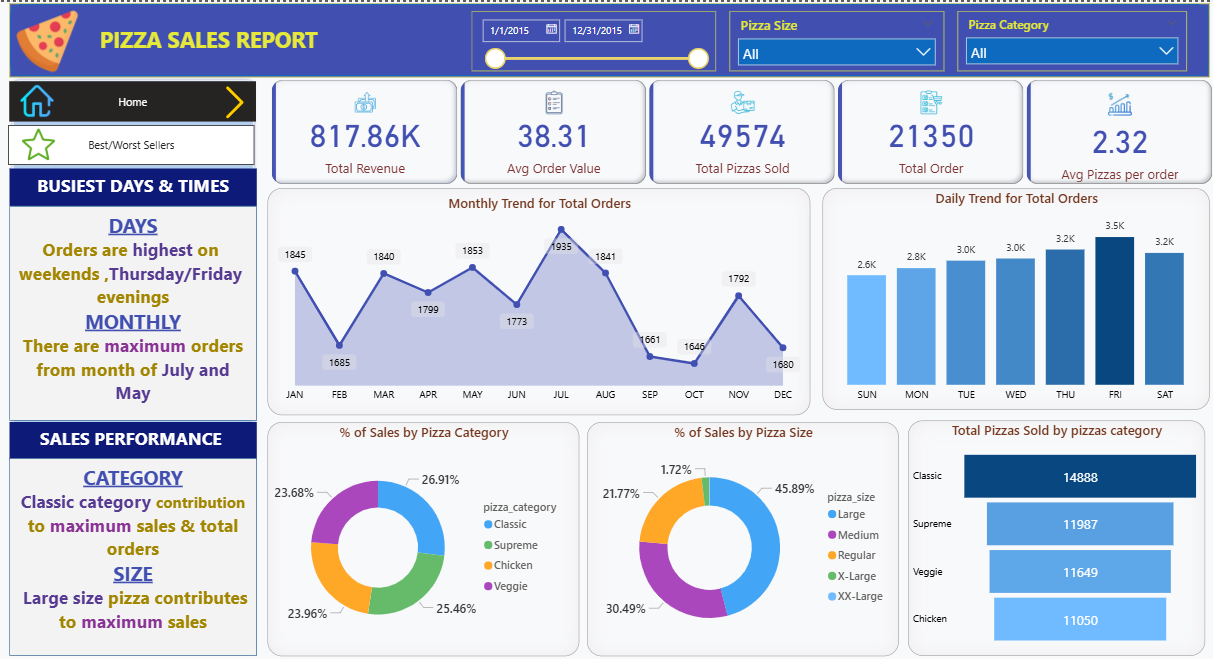

The dashboard page shown, as its layout file describes it:
{"tool":"powerbi","page":{"name":"Home","canvas":[1500,820],"ordinal":0},"visuals":[{"type":"cardVisual","fields":{"Data":["public pizza_sales.Total Revenu","public pizza_sales.Avg Order Value","public pizza_sales.Total Pizzas Sold","public pizza_sales.Total Order","public pizza_sales.Avg Pizzas per order"]},"box":[330.1,90.4,1169.2,138.3],"z":0},{"type":"shape","box":[12.9,1.8,1475.3,90.4],"z":1000},{"type":"textbox","box":[101.9,22.2,313,51.9],"z":2000},{"type":"image","box":[0,3.7,118.5,88.9],"z":3000},{"type":"slicer","fields":{"Values":["public pizza_sales.pizza_category"]},"box":[1178.4,11.1,282.2,73.8],"z":4000},{"type":"slicer","fields":{"Values":["public pizza_sales.pizza_size"]},"box":[898.1,11.1,263.7,73.8],"z":5000},{"type":"columnChart","title":"Daily Trend for Total Orders","fields":{"Category":["public pizza_sales.ORDER DAYS"],"Y":["public pizza_sales.Total Order"]},"box":[1012.4,228.7,475.8,272.9],"z":6000},{"type":"areaChart","title":"Monthly Trend for Total Orders","fields":{"Category":["public pizza_sales.OrderMonth"],"Y":["public pizza_sales.Total Order"]},"box":[330.1,228.7,667.6,279],"z":7000},{"type":"donutChart","title":"% of Sales by Pizza Category","fields":{"Category":["public pizza_sales.pizza_category"],"Y":["public pizza_sales.Total Revenu"]},"box":[330.1,516.4,383.6,287.7],"z":8000},{"type":"shape","box":[12.9,92.2,304.3,711.8],"z":9000},{"type":"donutChart","title":"% of Sales by Pizza Size","fields":{"Category":["public pizza_sales.pizza_size"],"Y":["public pizza_sales.Total Revenu"]},"box":[722.9,516.4,383.6,287.7],"z":10000},{"type":"funnel","title":"Total Pizzas Sold by pizzas category","fields":{"Category":["public pizza_sales.pizza_category"],"Y":["public pizza_sales.Total Pizzas Sold"]},"box":[1117.5,514.5,365.1,289.5],"z":11000},{"type":"textbox","box":[12.9,204.7,304.3,46.1],"z":12000},{"type":"textbox","box":[12.9,250.8,304.3,263.7],"z":13000},{"type":"textbox","box":[12.9,516.4,304.3,46.1],"z":14000},{"type":"textbox","box":[12.9,560.6,304.3,243.4],"z":15000},{"type":"slicer","fields":{"Values":["public pizza_sales.order_date"]},"box":[580.9,11.1,300.6,73.8],"z":16000},{"type":"pageNavigator","box":[13.2,98.1,303.8,49.1],"z":17000},{"type":"pageNavigator","box":[11.3,150.9,303.8,49.1],"z":18000},{"type":"image","box":[186.8,98.1,207.5,50.9],"z":19000},{"type":"image","box":[11.3,96.2,71.7,50.9],"z":20000},{"type":"image","box":[13.2,149.1,71.7,50.9],"z":21000}]}

Visuals, with their boxes in screenshot pixels (x1, y1, x2, y2), scaled from the page's 1500x820 canvas onto the 1213x659 screenshot:
cardVisual - public pizza_sales.Total Revenu x public pizza_sales.Avg Order Value: pyautogui.locateOnScreen(267, 73, 1212, 184)
shape: pyautogui.locateOnScreen(10, 1, 1203, 74)
textbox: pyautogui.locateOnScreen(82, 18, 336, 60)
image: pyautogui.locateOnScreen(0, 3, 96, 74)
slicer - public pizza_sales.pizza_category: pyautogui.locateOnScreen(953, 9, 1181, 68)
slicer - public pizza_sales.pizza_size: pyautogui.locateOnScreen(726, 9, 940, 68)
"Daily Trend for Total Orders" columnChart: pyautogui.locateOnScreen(819, 184, 1203, 403)
"Monthly Trend for Total Orders" areaChart: pyautogui.locateOnScreen(267, 184, 807, 408)
"% of Sales by Pizza Category" donutChart: pyautogui.locateOnScreen(267, 415, 577, 646)
shape: pyautogui.locateOnScreen(10, 74, 257, 646)
"% of Sales by Pizza Size" donutChart: pyautogui.locateOnScreen(585, 415, 895, 646)
"Total Pizzas Sold by pizzas category" funnel: pyautogui.locateOnScreen(904, 413, 1199, 646)
textbox: pyautogui.locateOnScreen(10, 165, 257, 202)
textbox: pyautogui.locateOnScreen(10, 202, 257, 413)
textbox: pyautogui.locateOnScreen(10, 415, 257, 452)
textbox: pyautogui.locateOnScreen(10, 451, 257, 646)
slicer - public pizza_sales.order_date: pyautogui.locateOnScreen(470, 9, 713, 68)
pageNavigator: pyautogui.locateOnScreen(11, 79, 256, 118)
pageNavigator: pyautogui.locateOnScreen(9, 121, 255, 161)
image: pyautogui.locateOnScreen(151, 79, 319, 120)
image: pyautogui.locateOnScreen(9, 77, 67, 118)
image: pyautogui.locateOnScreen(11, 120, 69, 161)
